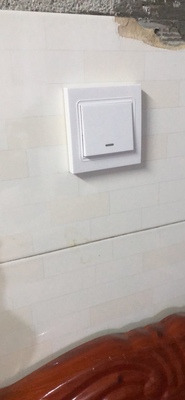switch: (77, 97, 140, 160)
